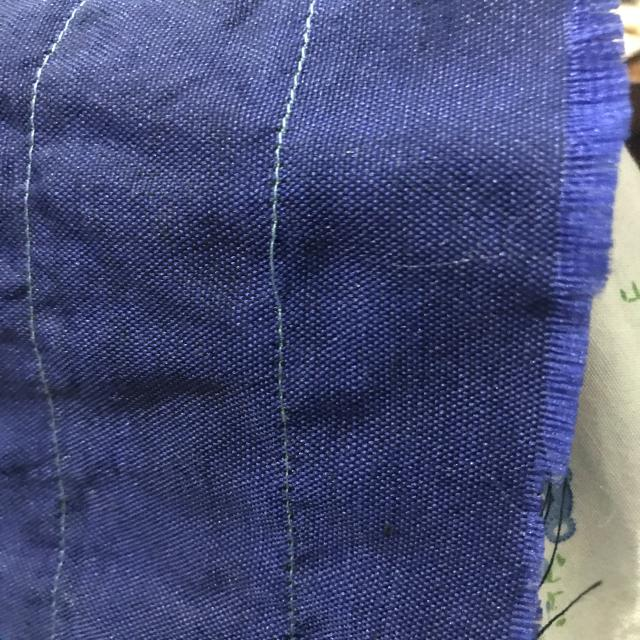good: (257, 358, 315, 502)
skip: (252, 210, 304, 323)
